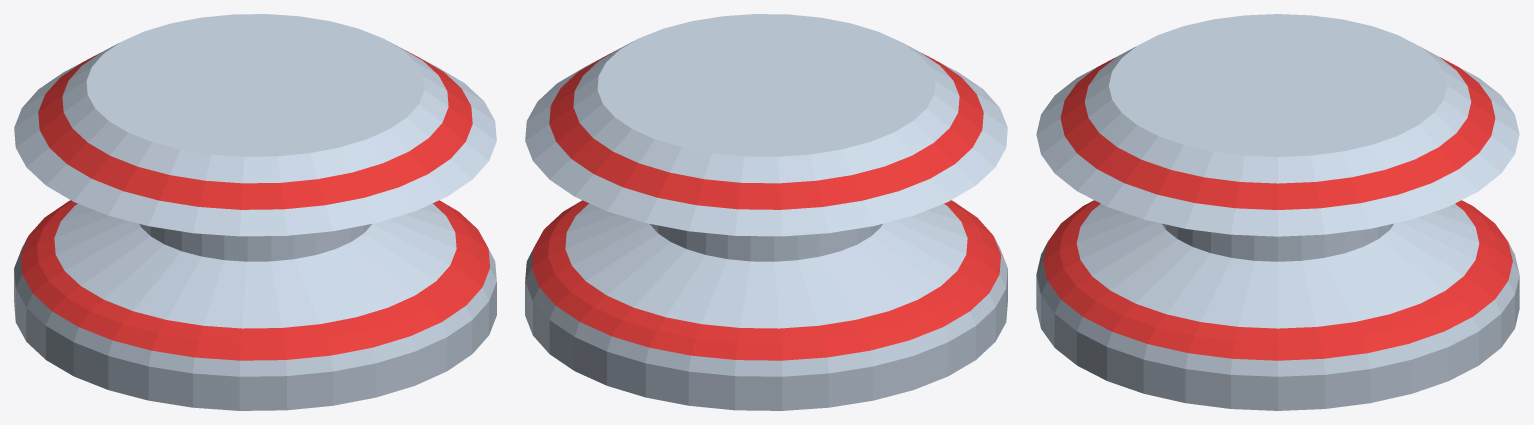
The model's file is Robot.fbx.
The picture shows the model from 3 angles, left to right: view 1: azimuth 30°, elevation 25°; view 2: azimuth 150°, elevation 25°; view 3: azimuth 270°, elevation 25°; orthographic projection.
Visible parts, largest first — view 1: Cylinder; view 2: Cylinder; view 3: Cylinder.
Boxes of the visible parts, bbox=[...] form: Cylinder: bbox=[14, 14, 496, 410]; Cylinder: bbox=[525, 14, 1007, 410]; Cylinder: bbox=[1036, 14, 1519, 410].
Size of the model in its own units: 200 by 102 by 200.
